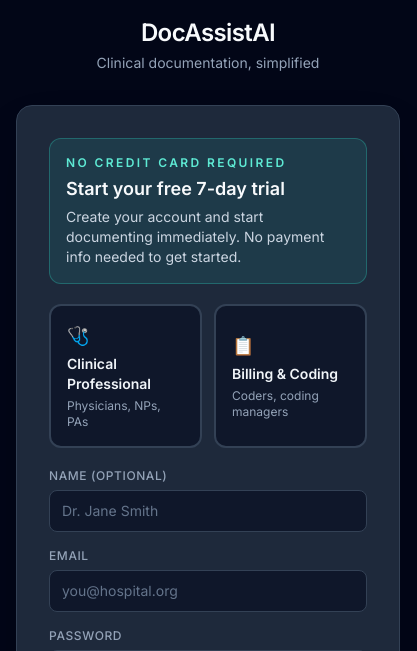
Test: ScribeRegisterPage › shows coding path options when billing & coding is selected
Click the text "Billing & Coding". click: (290, 374)
box: [232,364,349,384]
(page scrolled)
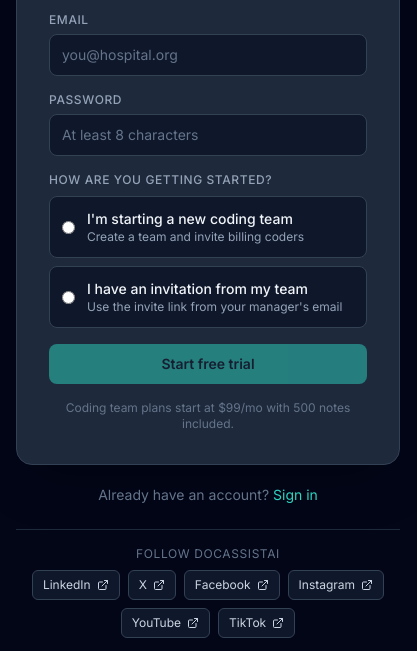
Result: the text "I'm starting a new coding team" is shown at [87,209,304,229]
Result: the text "I have an invitation from my team" is shown at [87,279,342,299]
